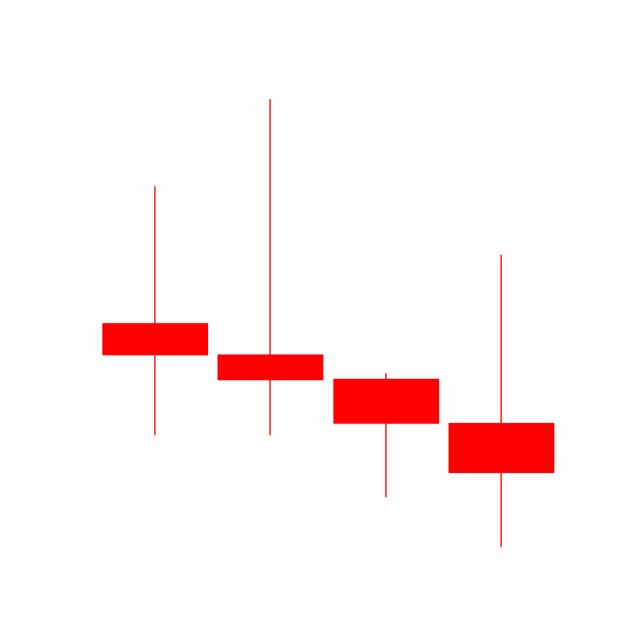Hammer: (328, 371, 444, 499)
